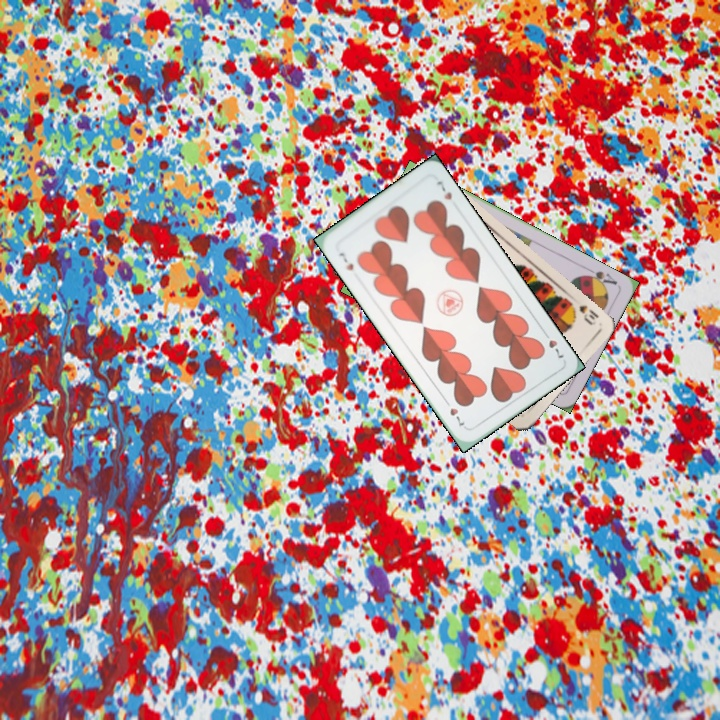H7: (539, 327, 567, 361), (335, 248, 356, 273)
S10: (565, 297, 601, 328)
SA: (579, 264, 620, 290)
